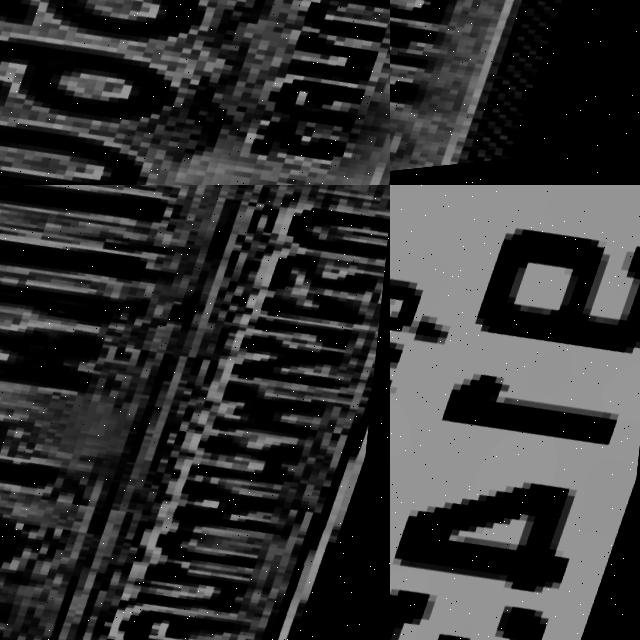license-plate: (0, 185, 390, 640), (390, 185, 640, 640), (0, 0, 390, 185), (390, 0, 640, 185)
